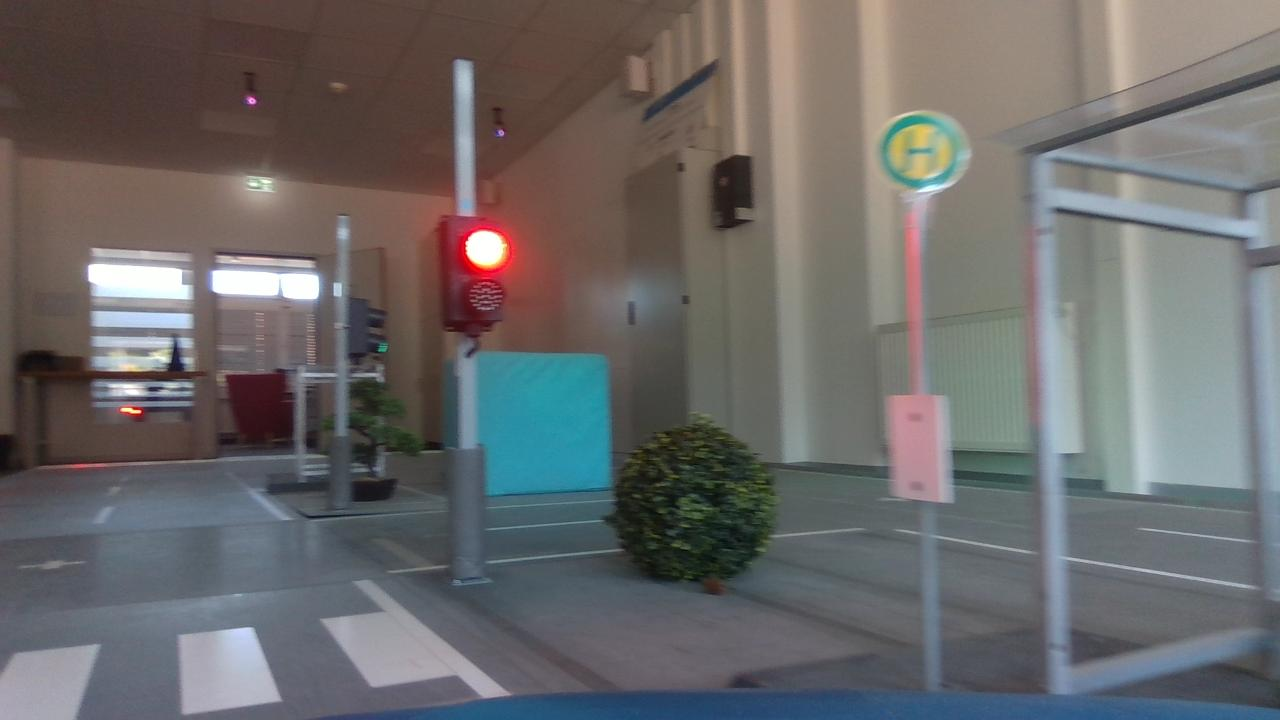traffic_light_red: (425, 202, 518, 346)
